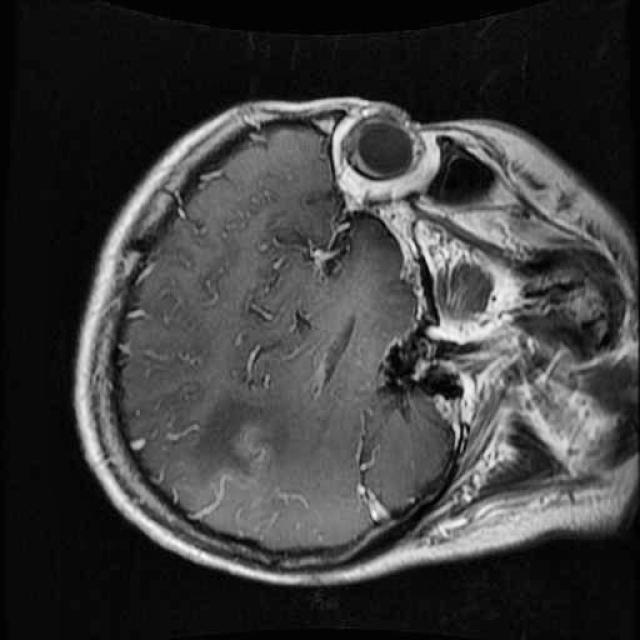Non-Tumor: (158, 386, 281, 530)
